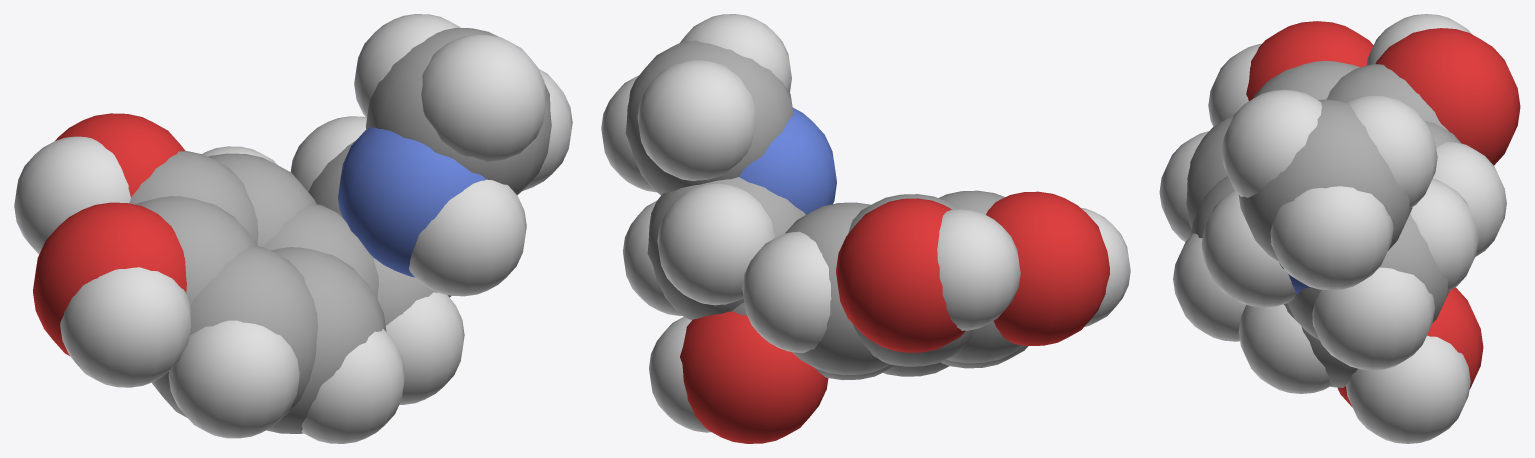
Rendered from adrenaline-cpk.glb.
3 renders of one model, left to right at view 1: azimuth 30°, elevation 25°; view 2: azimuth 150°, elevation 25°; view 3: azimuth 270°, elevation 25°, orthographic. The views are drawn at different scales.
Parts seen in each view (by area): view 1: adrenaline-cpk; view 2: adrenaline-cpk; view 3: adrenaline-cpk.
Part boxes in pixels (x1=…): adrenaline-cpk: x1=14, y1=14, x2=572, y2=443; adrenaline-cpk: x1=601, y1=14, x2=1130, y2=443; adrenaline-cpk: x1=1159, y1=14, x2=1520, y2=443.
Bounding box in the file's own units: 10.97 × 7.68 × 6.91.
